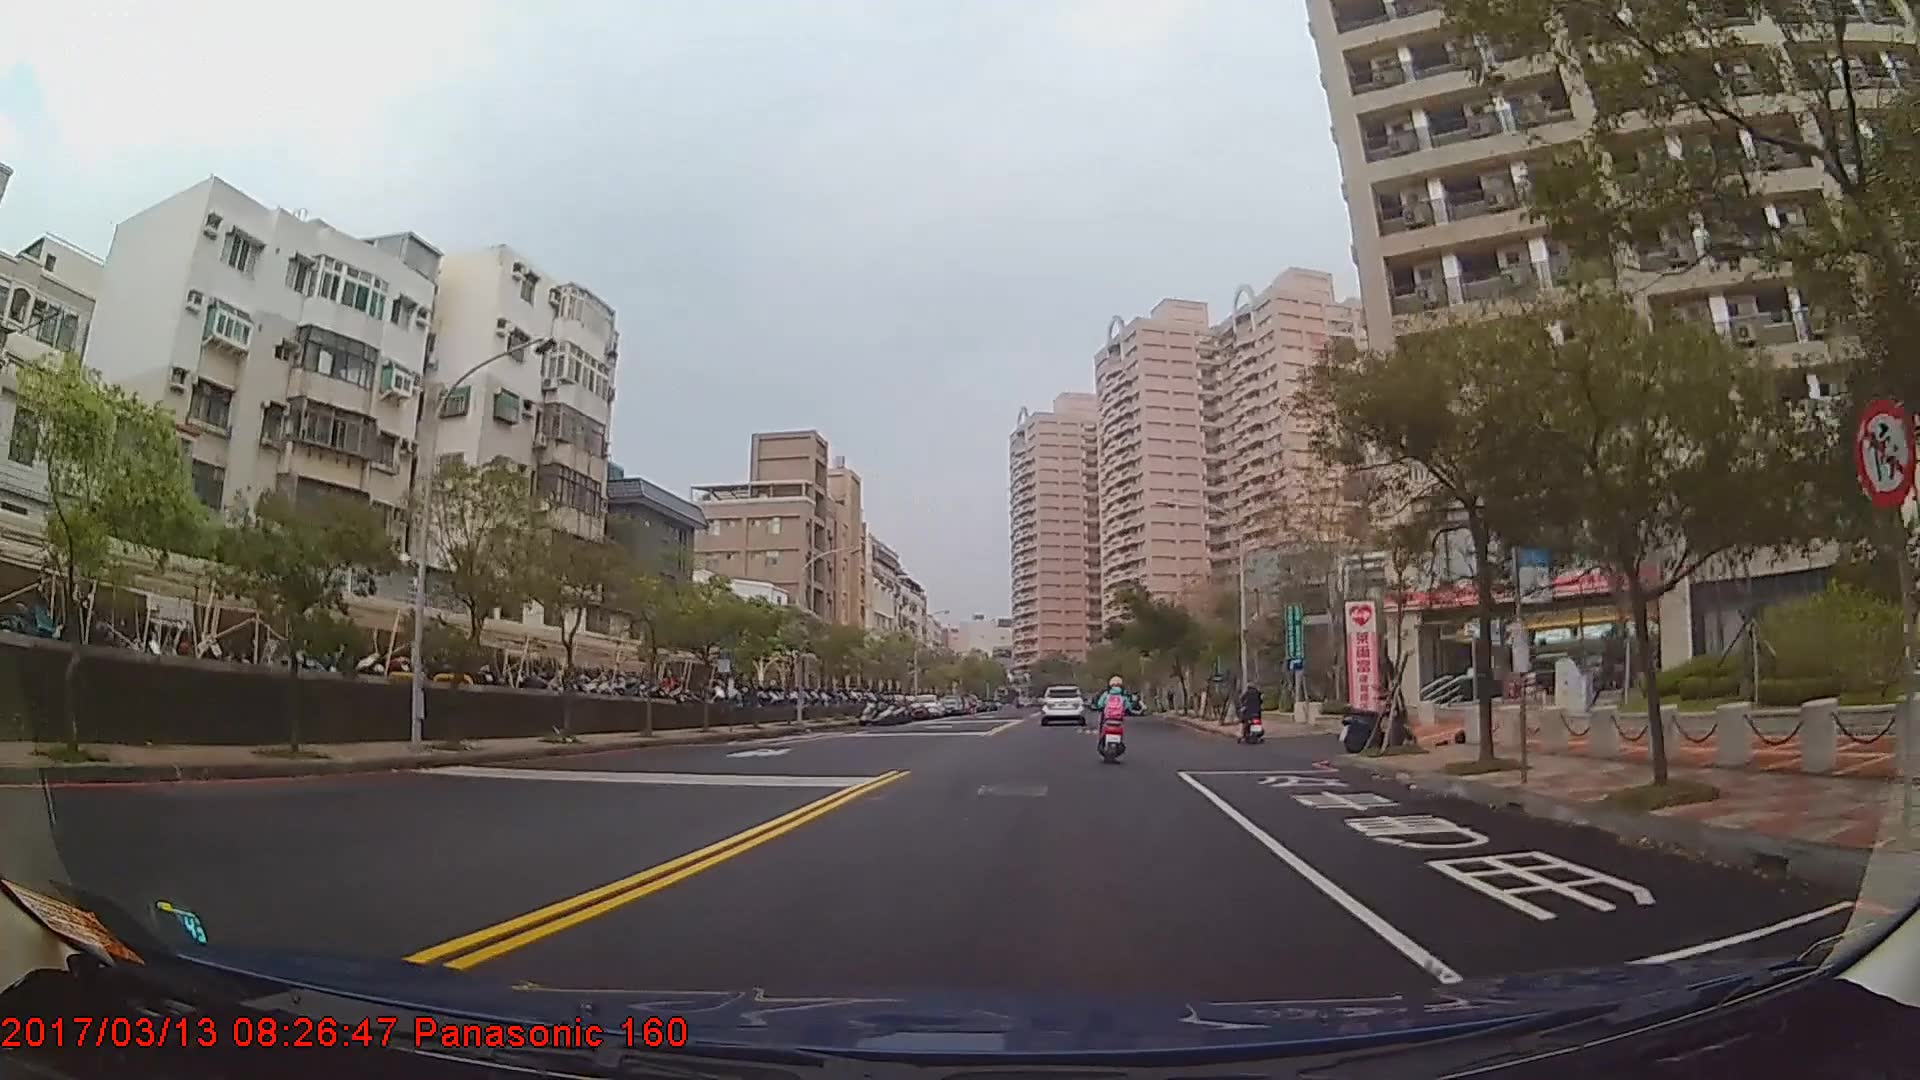rider: (1094, 678, 1135, 762), (1237, 684, 1265, 749)
vehicle: (1036, 686, 1086, 729), (907, 696, 942, 722)
